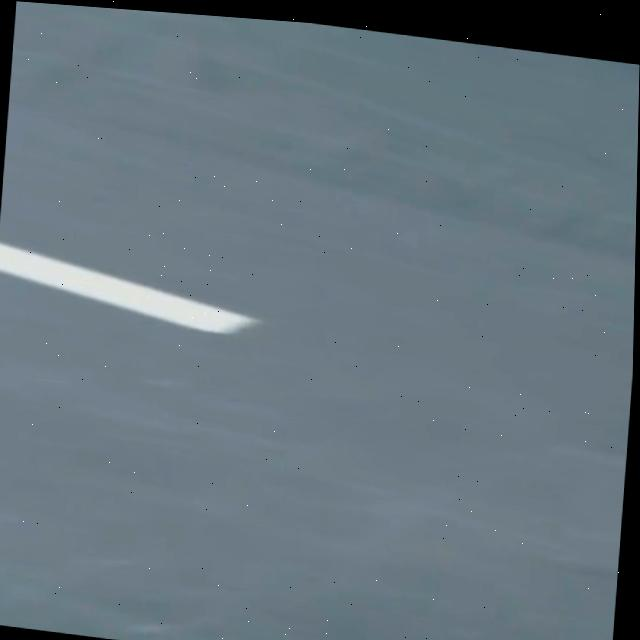center: (0, 241, 260, 333)
